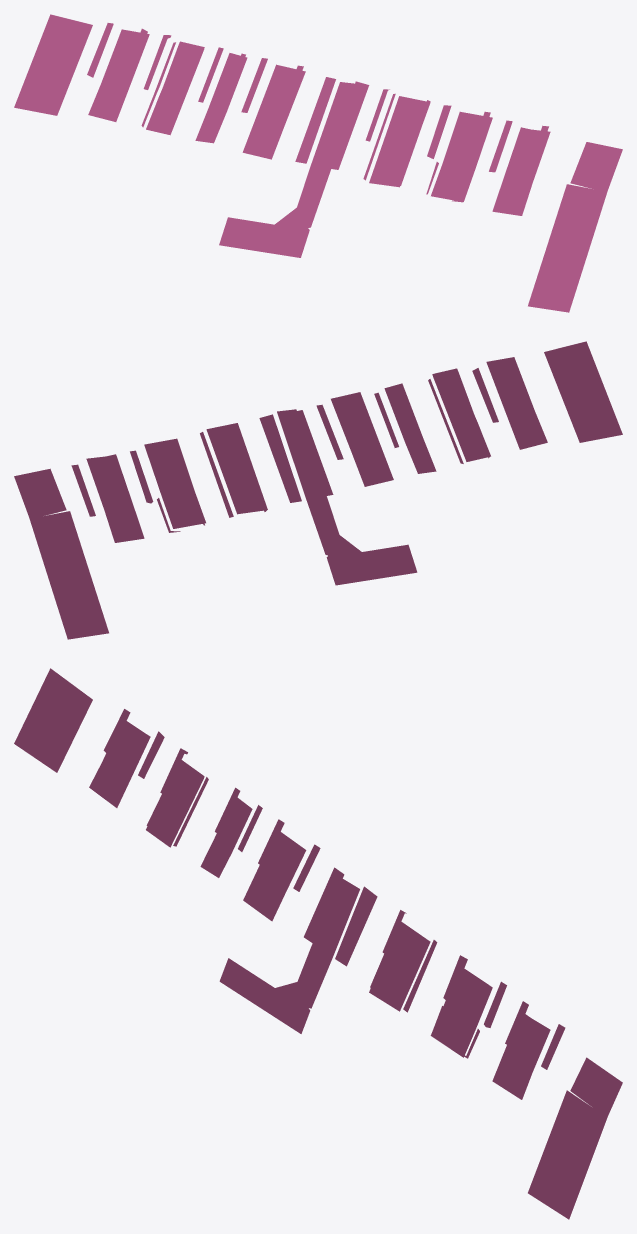
Rendered from Roof_Hini_6.0_Slope_2.0.obj.
3 renders of one model, top to bottom at view 1: azimuth 30°, elevation 25°; view 2: azimuth 150°, elevation 25°; view 3: azimuth 330°, elevation 25°, orthographic.
Visible parts, largest first — view 1: 5, 1, 10, 4, 3, 7, 9, 2, 8, 6; view 2: 5, 1, 10, 4, 3, 7, 9, 2, 8, 6; view 3: 5, 1, 10, 4, 3, 7, 9, 2, 8, 6.
Part boxes in pixels (x1,y1,x2,y2): 5: [219, 77, 369, 257]; 1: [528, 142, 622, 312]; 10: [14, 14, 92, 115]; 4: [426, 105, 492, 202]; 3: [363, 89, 430, 187]; 7: [241, 58, 305, 159]; 9: [87, 23, 149, 121]; 2: [489, 120, 550, 215]; 8: [141, 35, 204, 135]; 6: [195, 47, 247, 143]; 5: [259, 409, 417, 585]; 1: [14, 468, 108, 639]; 10: [544, 341, 622, 442]; 4: [130, 438, 205, 532]; 3: [200, 423, 267, 517]; 7: [316, 392, 393, 486]; 9: [472, 357, 547, 449]; 2: [71, 454, 144, 542]; 8: [428, 368, 490, 463]; 6: [374, 383, 436, 473]; 5: [219, 867, 377, 1033]; 1: [528, 1057, 622, 1219]; 10: [14, 668, 92, 772]; 4: [430, 955, 506, 1058]; 3: [369, 910, 437, 1012]; 7: [243, 819, 320, 921]; 9: [89, 709, 164, 807]; 2: [492, 1001, 565, 1099]; 8: [146, 748, 208, 847]; 6: [200, 787, 262, 877].
Size of the model in its own units: 136 by 90.5 by 3.28.
